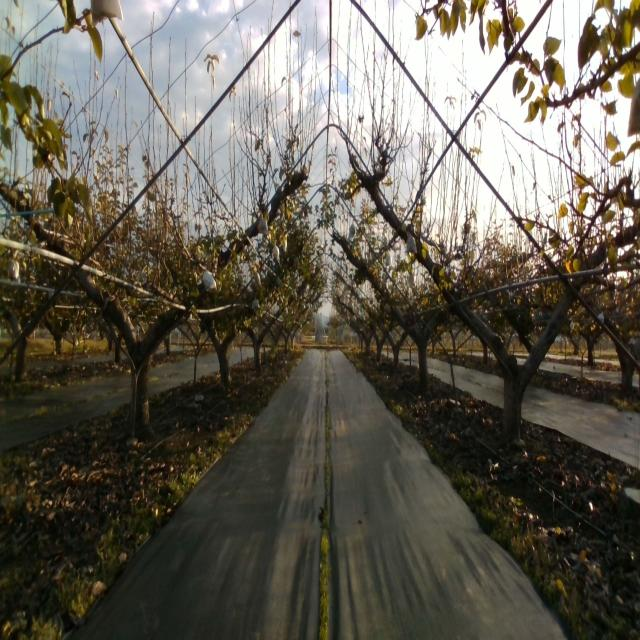pearbags: (203, 267, 217, 292), (404, 232, 418, 255), (257, 213, 269, 235)
